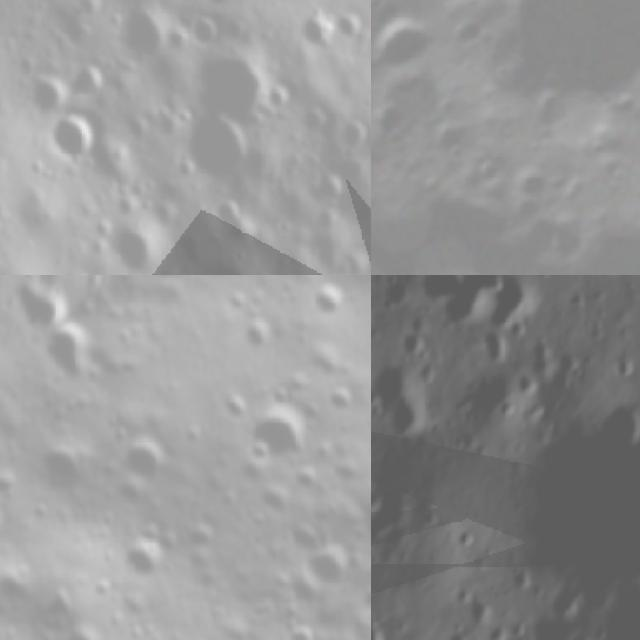crater: (543, 424, 640, 586), (23, 312, 117, 398), (239, 396, 327, 484), (371, 0, 439, 74), (32, 434, 99, 506), (114, 430, 182, 497), (301, 538, 365, 602), (516, 80, 578, 146), (272, 559, 334, 621), (38, 110, 99, 168), (193, 124, 259, 177), (120, 535, 174, 596), (234, 306, 288, 361), (106, 227, 171, 271), (302, 336, 354, 388), (20, 54, 71, 107), (286, 514, 334, 562), (312, 277, 359, 325), (324, 378, 368, 422), (0, 460, 34, 511), (54, 613, 114, 640), (371, 59, 391, 138), (304, 16, 344, 53), (242, 433, 280, 471), (207, 200, 242, 236), (335, 114, 366, 154), (223, 286, 257, 321), (0, 498, 21, 554), (80, 58, 106, 98), (285, 616, 328, 640), (263, 77, 288, 116), (191, 13, 217, 48), (299, 275, 353, 288)
